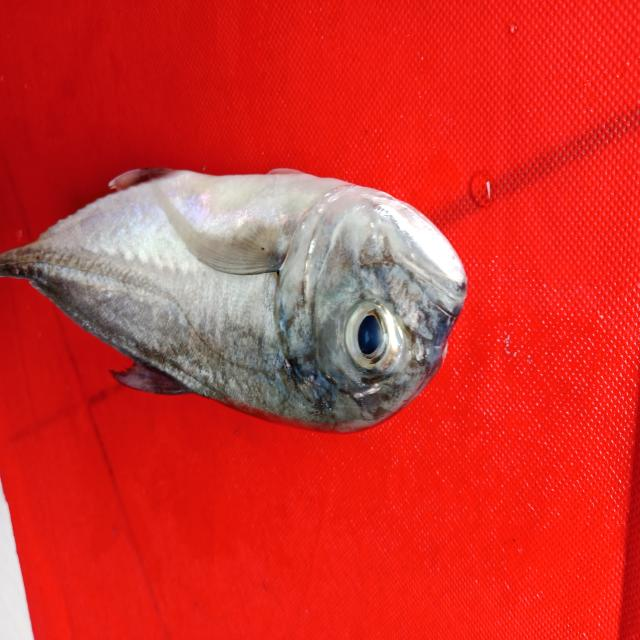ikan: (6, 136, 473, 457)
